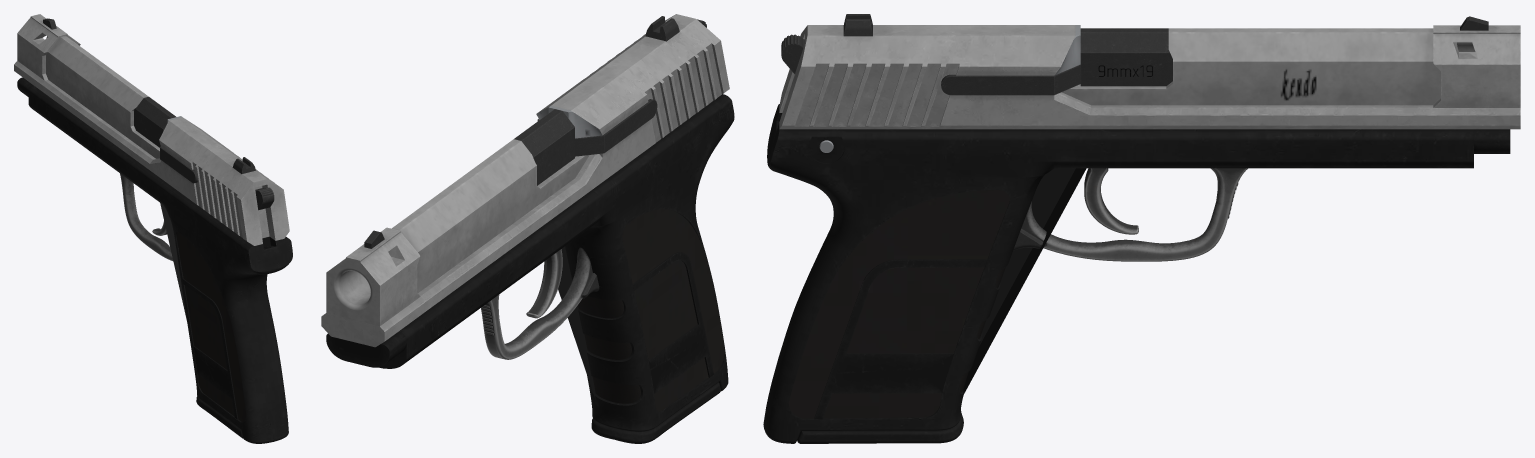
3 renders of one model, left to right at view 1: azimuth 30°, elevation 25°; view 2: azimuth 150°, elevation 25°; view 3: azimuth 270°, elevation 25°, orthographic. The views are drawn at different scales.
Parts seen in each view (by area): view 1: body, slide, mag; view 2: body, slide, mag; view 3: body, slide, mag.
Boxes of the visible parts, x1,y1,x2,y2 form: body: [17, 77, 292, 443]; slide: [14, 14, 289, 245]; mag: [160, 203, 243, 438]; body: [326, 19, 734, 431]; slide: [321, 14, 729, 347]; mag: [558, 246, 720, 443]; body: [763, 28, 1510, 443]; slide: [779, 14, 1520, 129]; mag: [797, 168, 1086, 443].
Bounding box in the file's own units: 0.0223 × 0.1233 × 0.205.
22 materials, 22 textured.
